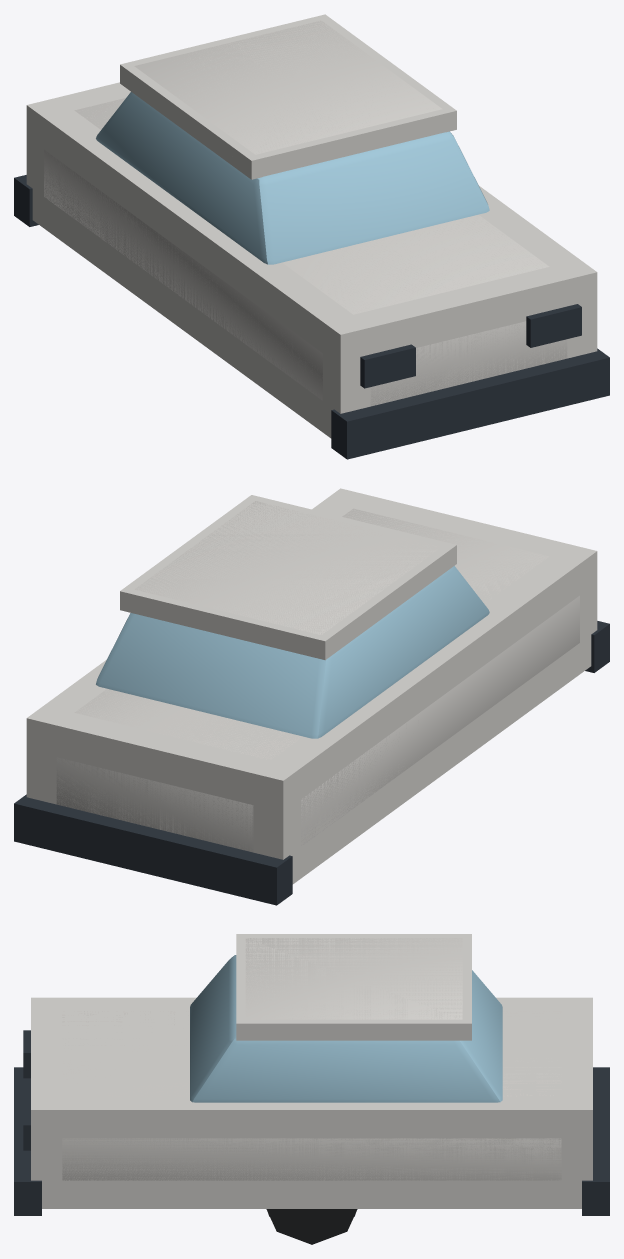
Rendered from VEH_CITY_CAR_A_v001.glb.
3 renders of one model, top to bottom at view 1: azimuth 30°, elevation 25°; view 2: azimuth 150°, elevation 25°; view 3: azimuth 270°, elevation 25°, orthographic. The views are drawn at different scales.
Parts seen in each view (by area): view 1: VEH_CITY_CAR_A_BODY_LOW, VEH_CITY_CAR_A_BODY, VEH_CITY_CAR_A_GLASS, VEH_CITY_CAR_A_TRIM_LOW, VEH_CITY_CAR_A_TRIM; view 2: VEH_CITY_CAR_A_BODY_LOW, VEH_CITY_CAR_A_BODY, VEH_CITY_CAR_A_GLASS, VEH_CITY_CAR_A_TRIM_LOW, VEH_CITY_CAR_A_TRIM; view 3: VEH_CITY_CAR_A_BODY_LOW, VEH_CITY_CAR_A_BODY, VEH_CITY_CAR_A_GLASS, VEH_CITY_CAR_A_TRIM_LOW, VEH_CITY_CAR_A_WHEEL, VEH_CITY_CAR_A_TRIM, VEH_CITY_CAR_A_WHEEL_LOW.
Part boxes in pixels (x1,y1,x2,y2): VEH_CITY_CAR_A_BODY_LOW: [26, 14, 597, 438]; VEH_CITY_CAR_A_BODY: [44, 20, 567, 406]; VEH_CITY_CAR_A_GLASS: [96, 92, 489, 264]; VEH_CITY_CAR_A_TRIM_LOW: [14, 175, 609, 459]; VEH_CITY_CAR_A_TRIM: [18, 189, 600, 449]; VEH_CITY_CAR_A_BODY_LOW: [26, 488, 597, 884]; VEH_CITY_CAR_A_BODY: [56, 501, 579, 852]; VEH_CITY_CAR_A_GLASS: [96, 566, 489, 738]; VEH_CITY_CAR_A_TRIM_LOW: [14, 621, 609, 905]; VEH_CITY_CAR_A_TRIM: [21, 625, 605, 895]; VEH_CITY_CAR_A_BODY_LOW: [31, 934, 592, 1208]; VEH_CITY_CAR_A_BODY: [62, 938, 561, 1180]; VEH_CITY_CAR_A_GLASS: [190, 955, 502, 1102]; VEH_CITY_CAR_A_TRIM_LOW: [14, 1067, 609, 1215]; VEH_CITY_CAR_A_WHEEL: [268, 1209, 355, 1235]; VEH_CITY_CAR_A_TRIM: [21, 1030, 602, 1208]; VEH_CITY_CAR_A_WHEEL_LOW: [266, 1209, 357, 1244].
Size of the model in its own units: 1.74 by 1.83 by 3.82.
